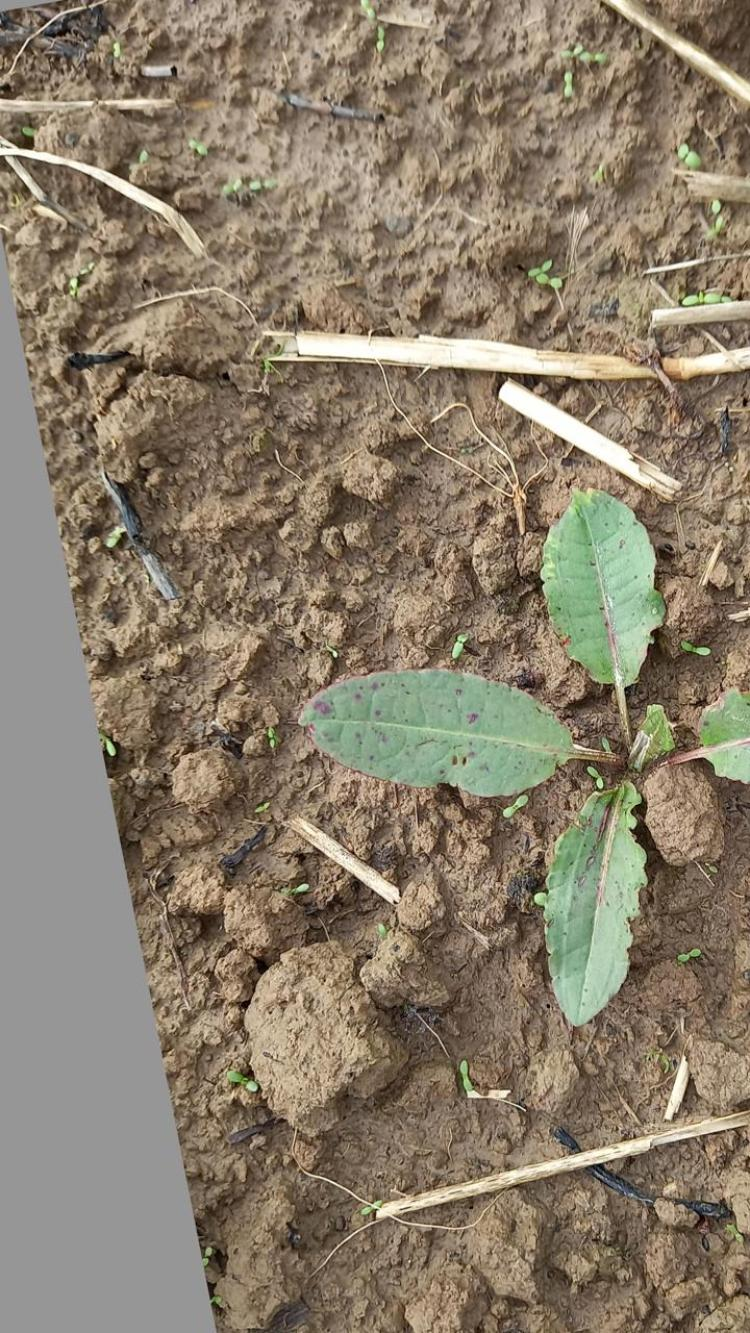zhavel: (296, 483, 750, 1021)
